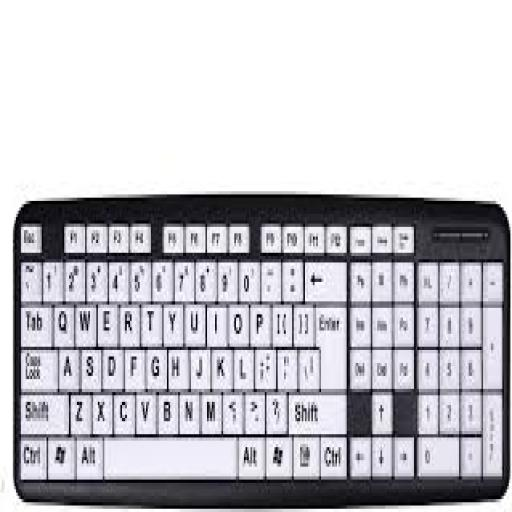keyboard: (11, 198, 510, 502)
